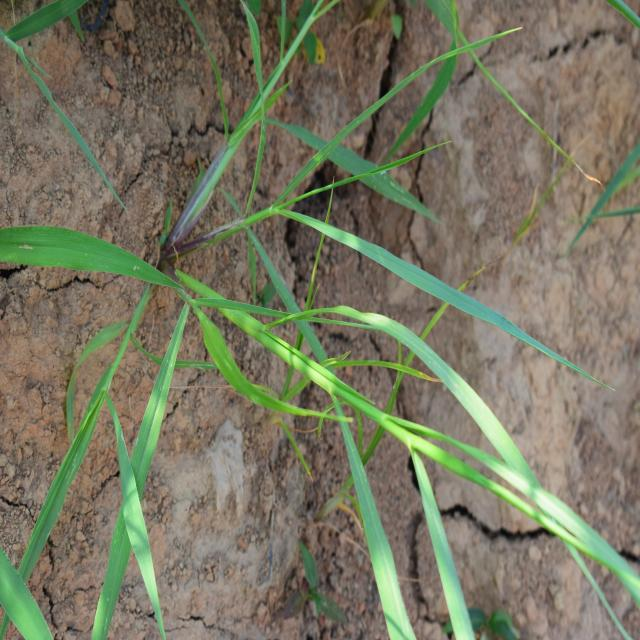green_foxtail: (256, 155, 560, 582), (35, 217, 218, 600)
